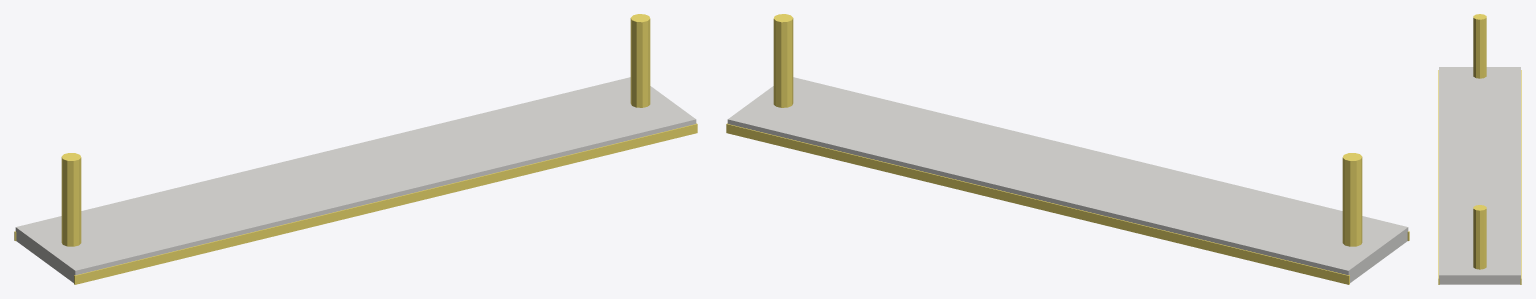
File: pump_island.glb
3 renders of one model, left to right at view 1: azimuth 30°, elevation 25°; view 2: azimuth 150°, elevation 25°; view 3: azimuth 270°, elevation 25°, orthographic. The views are drawn at different scales.
Visible parts, largest first — view 1: pump_island_concrete, pump_island_bollard; view 2: pump_island_concrete, pump_island_bollard; view 3: pump_island_concrete, pump_island_bollard.
Boxes of the visible parts, left/top/right/bottom form: pump_island_concrete: left=15, top=77, right=696, bottom=282; pump_island_bollard: left=14, top=14, right=697, bottom=284; pump_island_concrete: left=727, top=77, right=1408, bottom=282; pump_island_bollard: left=726, top=14, right=1409, bottom=284; pump_island_concrete: left=1439, top=67, right=1520, bottom=284; pump_island_bollard: left=1438, top=14, right=1521, bottom=284.
Bounding box in the file's own units: 7.22 × 1.1 × 1.22.
